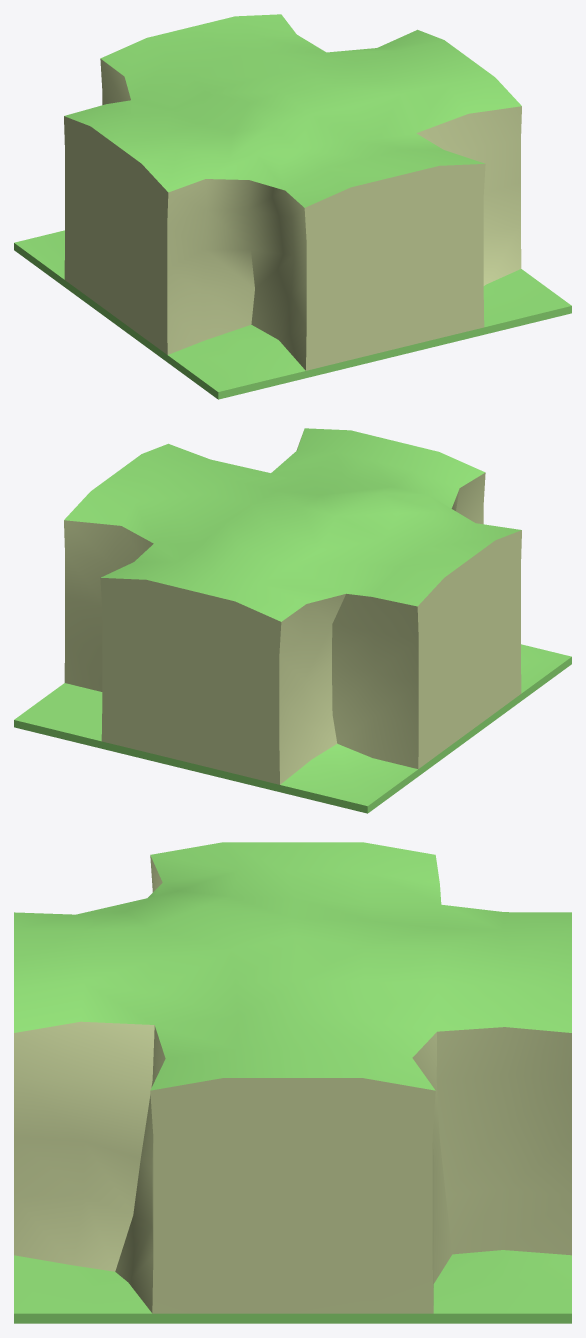
The model's file is wall_slim_join4_1.glb.
The picture shows the model from 3 angles, top to bottom: view 1: azimuth 30°, elevation 25°; view 2: azimuth 150°, elevation 25°; view 3: azimuth 270°, elevation 25°; orthographic projection. The views are drawn at different scales.
Visible parts, largest first — view 1: wall_slim_join4_1; view 2: wall_slim_join4_1; view 3: wall_slim_join4_1.
Boxes of the visible parts, left/top/right/bottom form: wall_slim_join4_1: left=14, top=14, right=571, bottom=399; wall_slim_join4_1: left=14, top=428, right=571, bottom=813; wall_slim_join4_1: left=14, top=842, right=571, bottom=1323.
Bounding box in the file's own units: 2 × 1.04 × 2.
